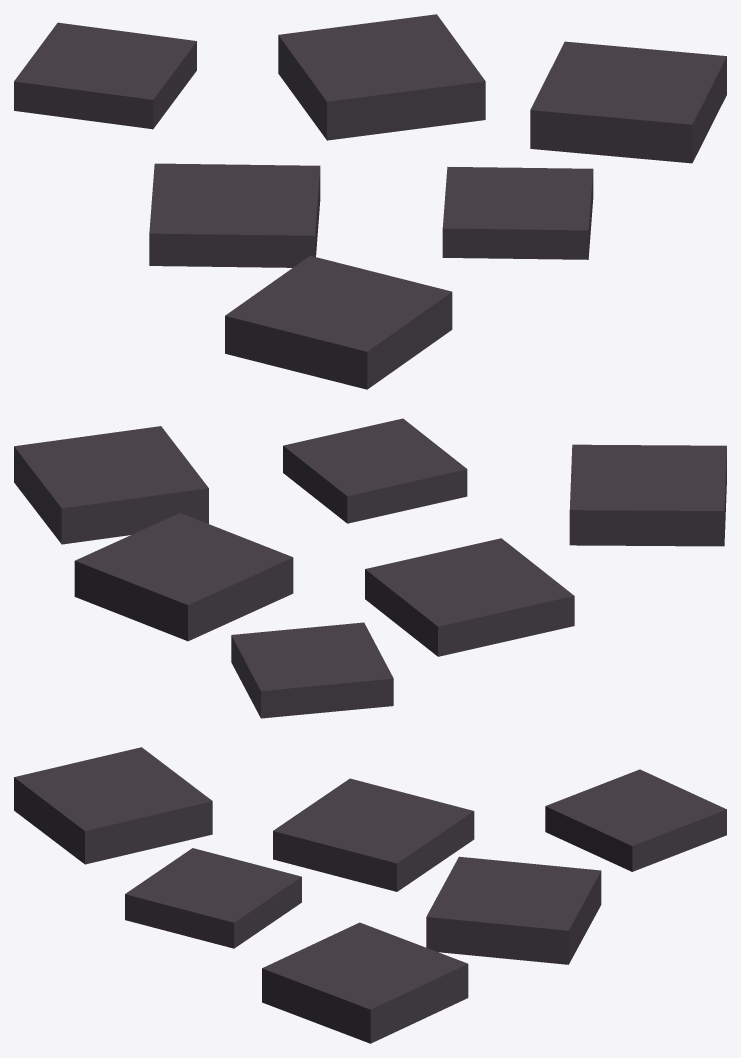
The model's file is Road.fbx.
The picture shows the model from 3 angles, top to bottom: view 1: azimuth 30°, elevation 25°; view 2: azimuth 150°, elevation 25°; view 3: azimuth 270°, elevation 25°; orthographic projection. The views are drawn at different scales.
Parts seen in each view (by area): view 1: Cube.023; view 2: Cube.023; view 3: Cube.023.
Part boxes in pixels (<box>): Cube.023: <box>14,14,726,389</box>; Cube.023: <box>14,418,726,718</box>; Cube.023: <box>14,747,726,1043</box>.
Bounding box in the file's own units: 1.38 × 0.1264 × 1.53.
